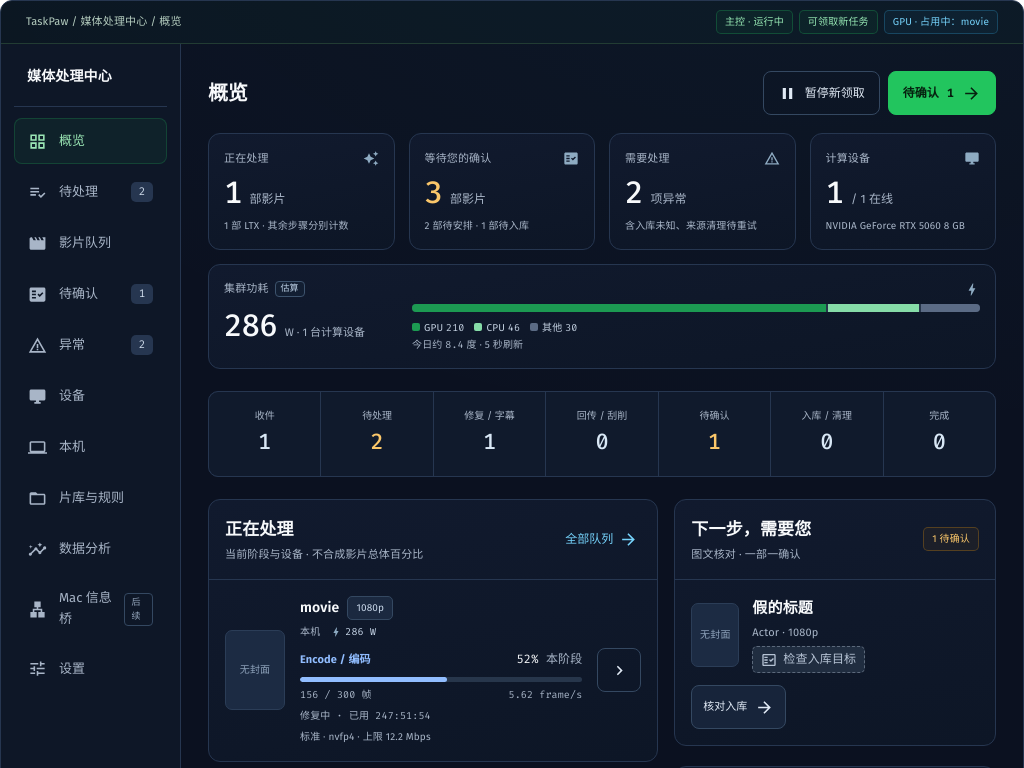
contract: drawer › the running film: LtxProgress, the plan facts and the manifest versions
The image size is (1024, 768).
Click the button named "查看 movie 详情" at coordinates (619, 670), box [597,648,641,692]
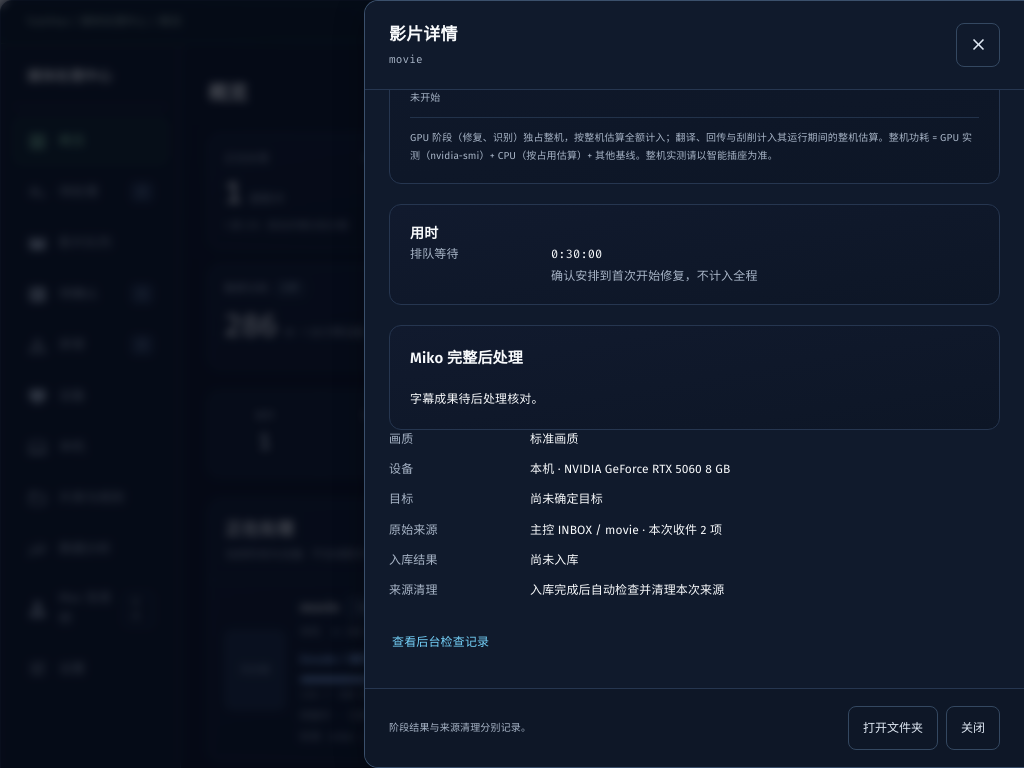
Check: the text "标准画质" is shown, box [530,432,579,446]
Check: the text "本机 · NVIDIA GeForce RTX 5060 8 GB" is shown, box [530,462,730,476]
Check: the text "主控 INBOX / movie · 本次收件 2 项" is shown, box [530,523,722,537]
